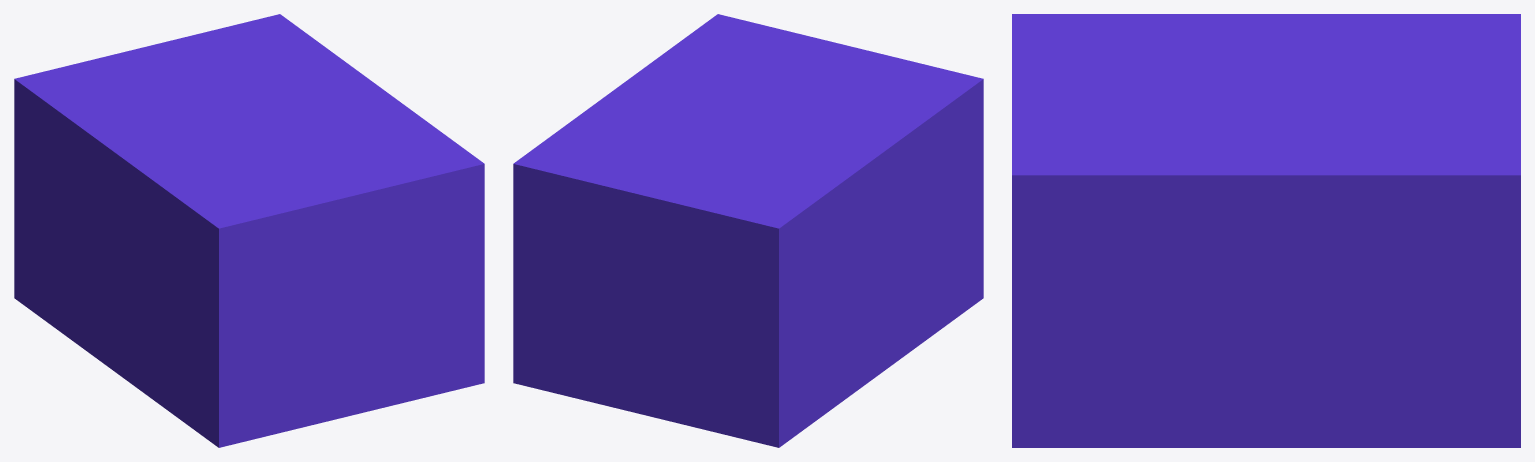
3 views of the same model, side by side, from view 1: azimuth 30°, elevation 25°; view 2: azimuth 150°, elevation 25°; view 3: azimuth 270°, elevation 25° (orthographic). The views are drawn at different scales.
Visible parts, largest first — view 1: pCube1; view 2: pCube1; view 3: pCube1.
Boxes of the visible parts, x1,y1,x2,y2 form: pCube1: [14, 14, 484, 447]; pCube1: [513, 14, 983, 447]; pCube1: [1012, 14, 1520, 447].
Bounding box in the file's own units: 1.5 × 1.18 × 2.
